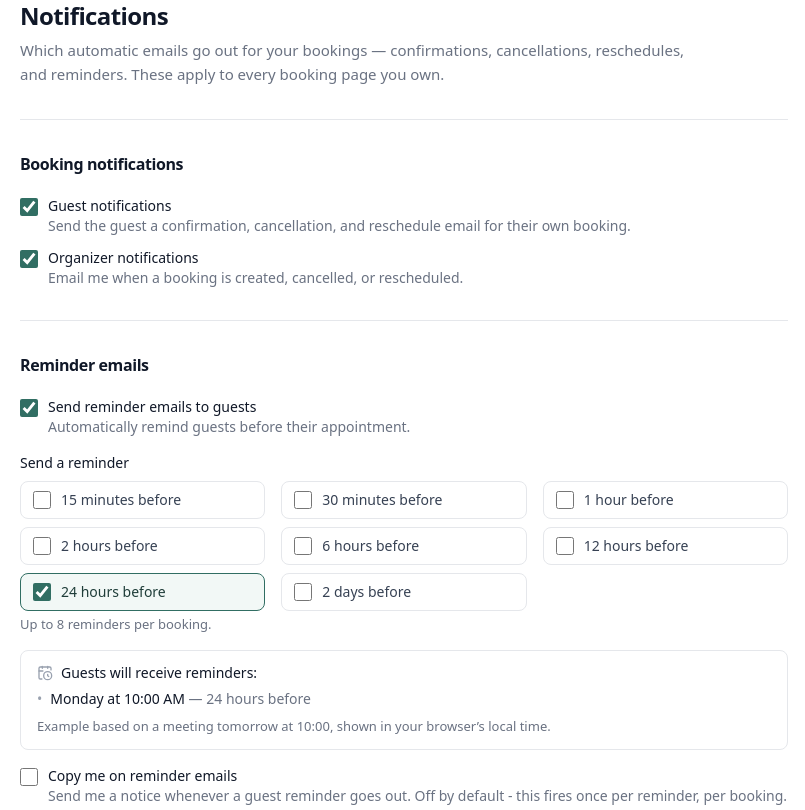
Scenario: NotificationSettingsPage › blocks saving an invalid selection rather than letting the server reject it
The image size is (805, 810).
Click the checkbox labelled "24 hours before" at (42, 592), box left=33, top=583, right=51, bottom=601
(page scrolled)
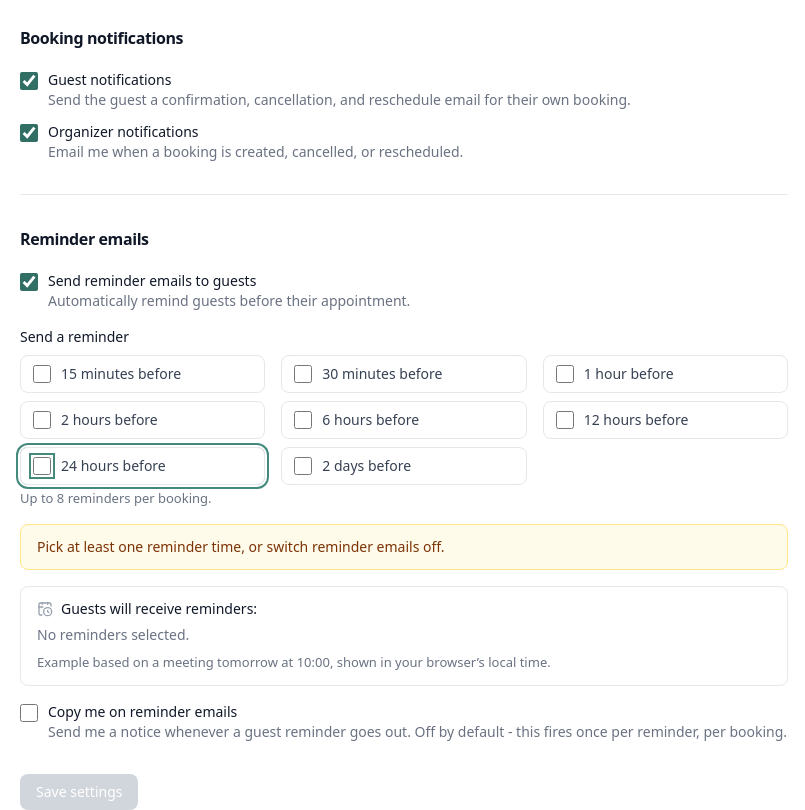
Result: the text "Pick at least one reminder time, or switch reminder emails off." is shown at left=20, top=524, right=788, bottom=570
Result: the button "Save settings" is disabled at left=20, top=774, right=138, bottom=809
